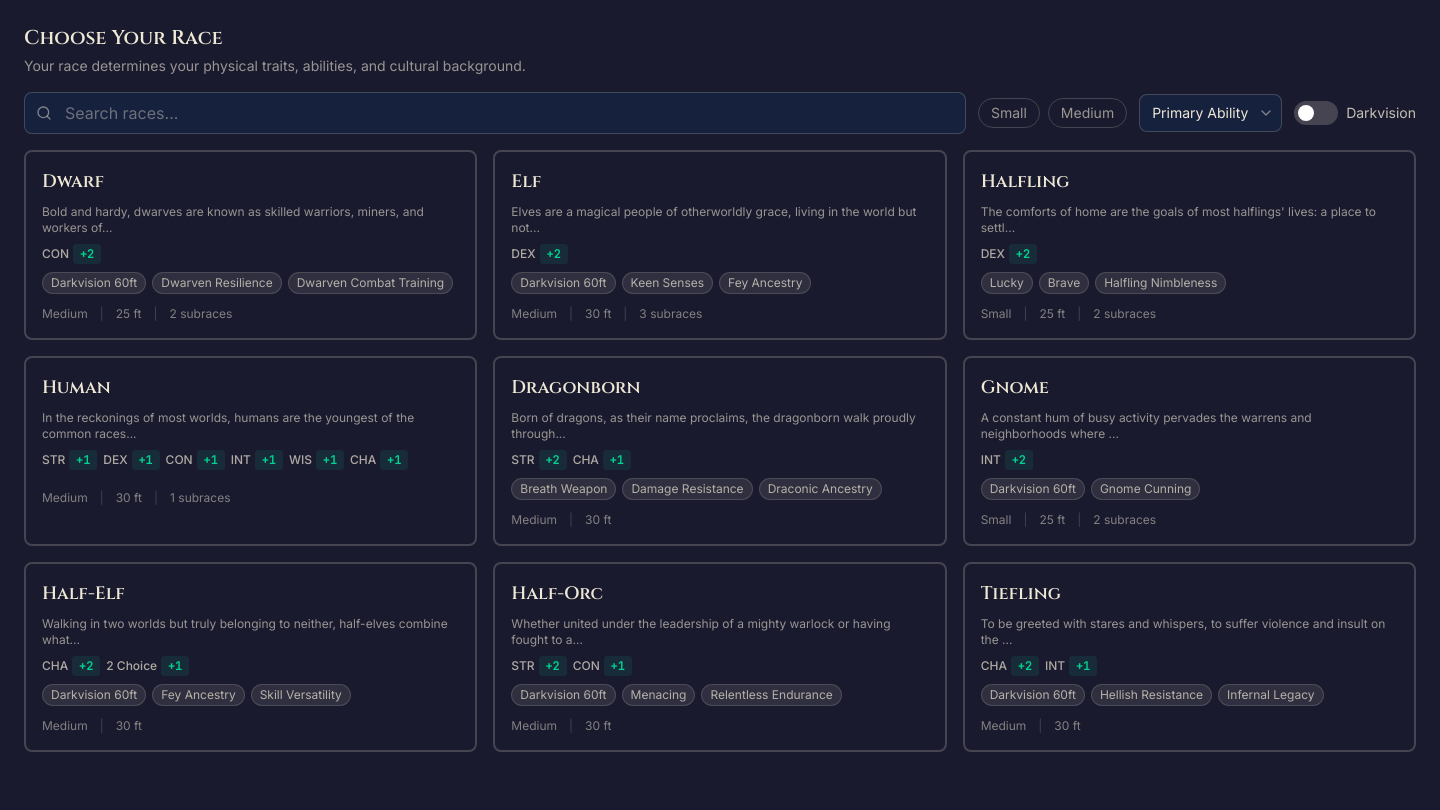
Test: RaceStep › should select a race when clicked and open detail panel
Click the heading "Dwarf": x=73, y=182 left=42, top=169, right=104, bottom=194
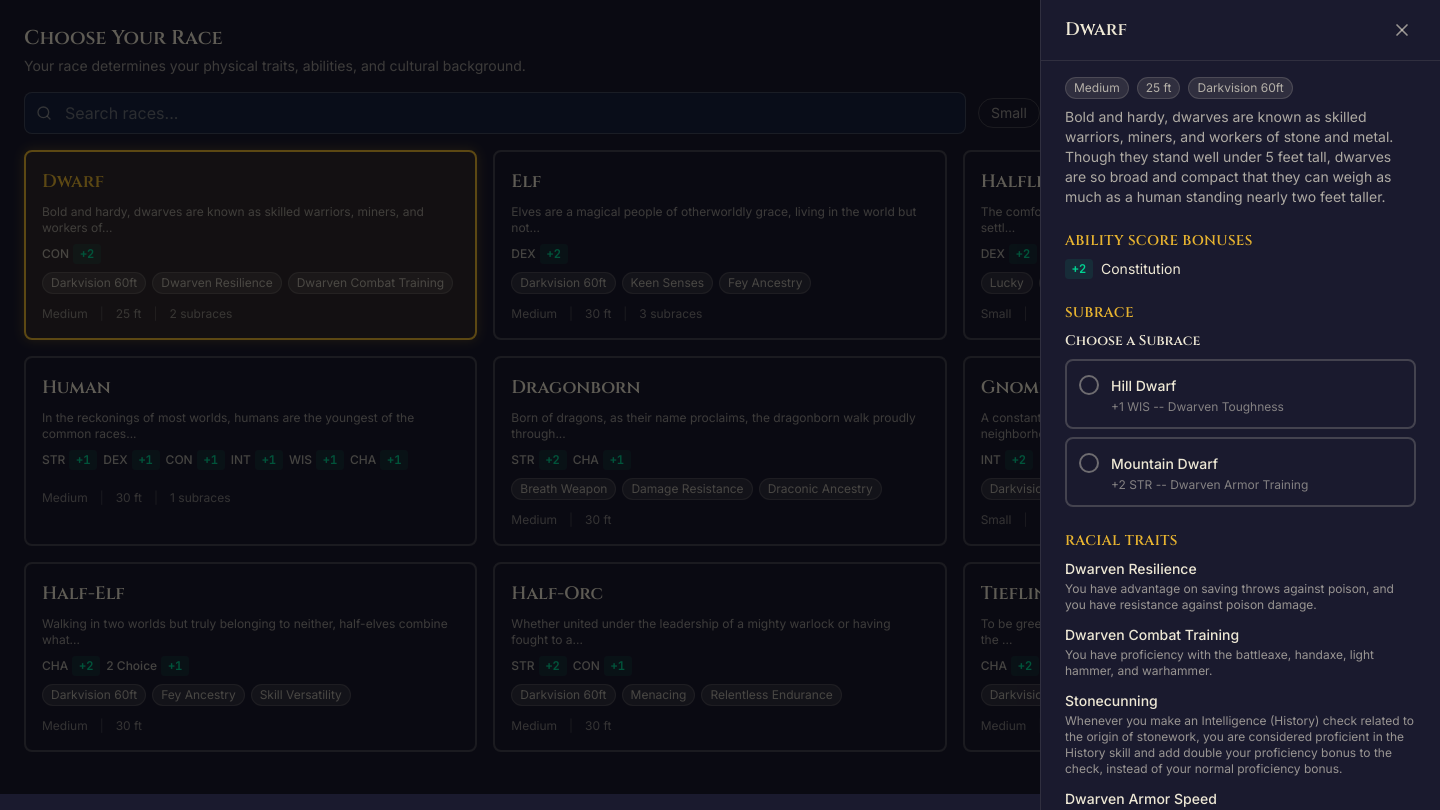
Check: the dialog is shown, box left=1040, top=0, right=1439, bottom=809
